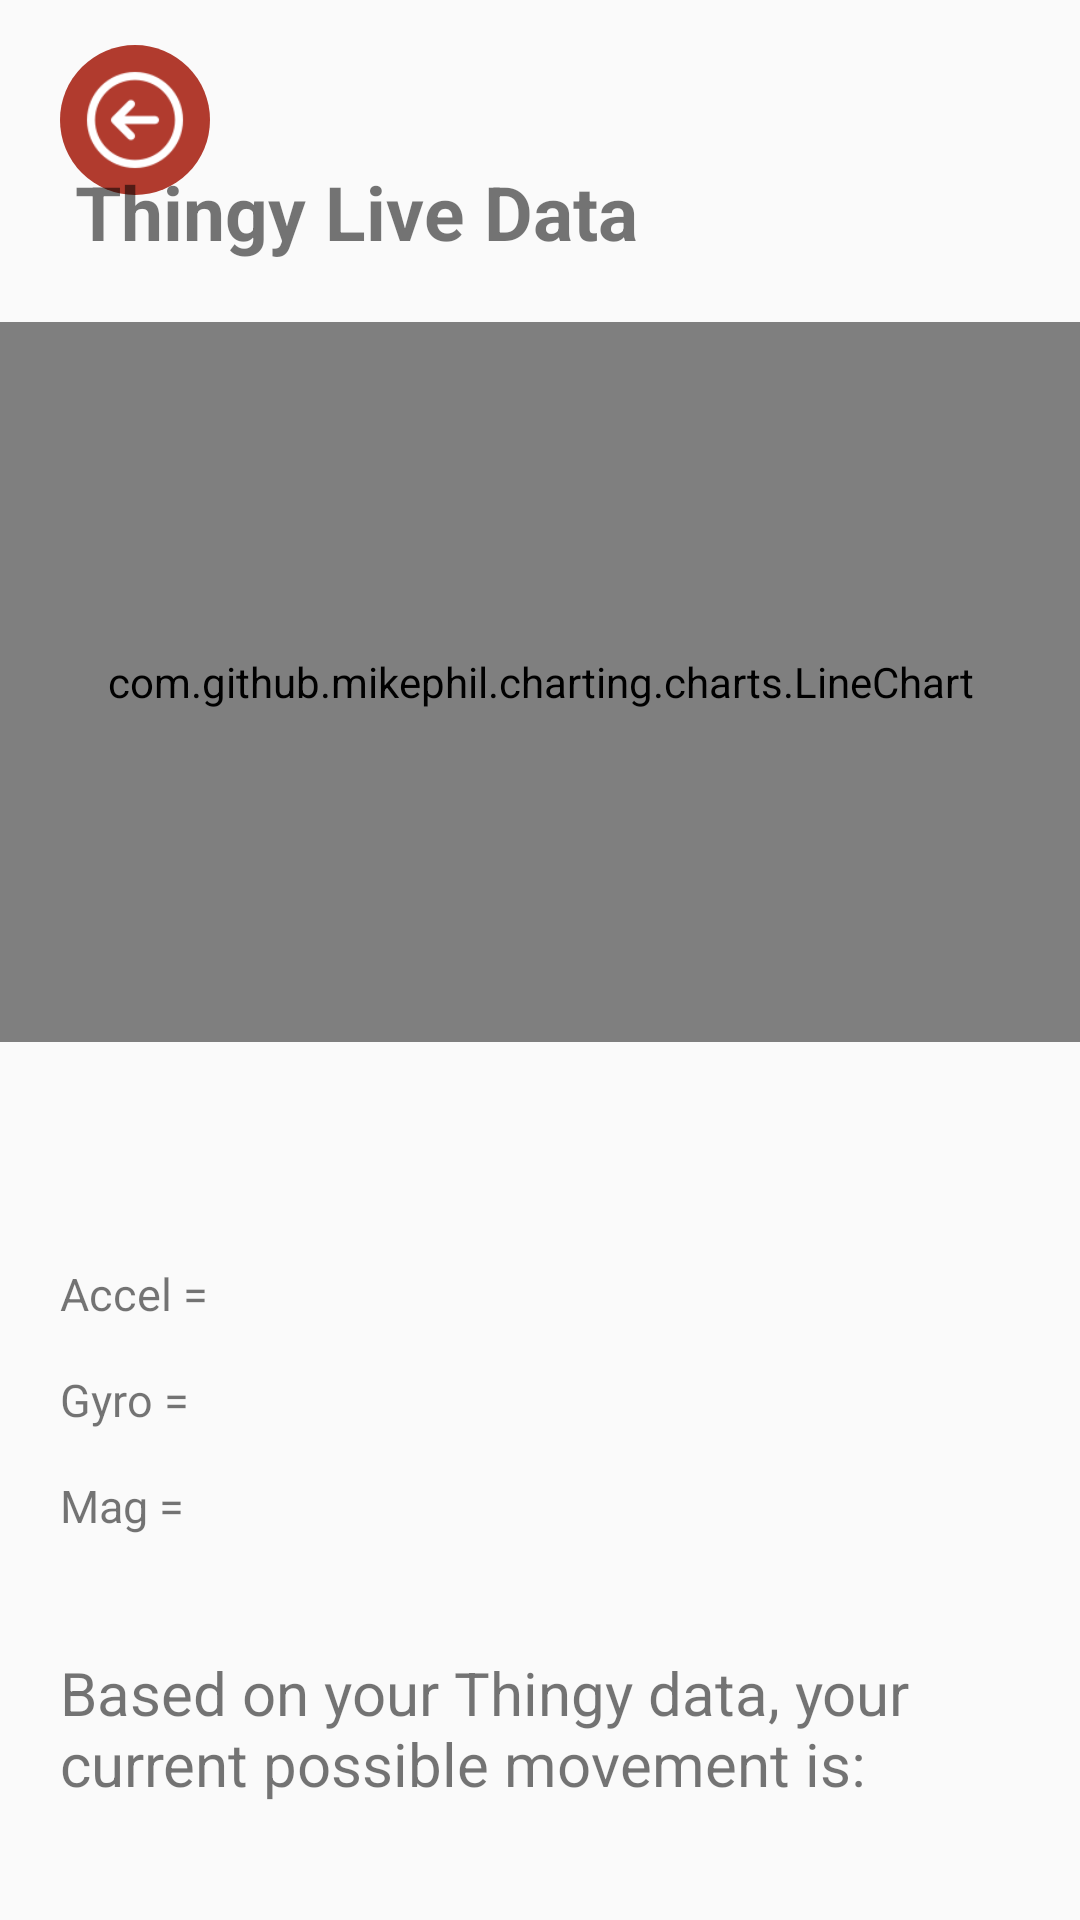

Icons on this 1080px×1920px Android screen, each with the point to tap as (x=x, y=y):
back: (x=135, y=120)
